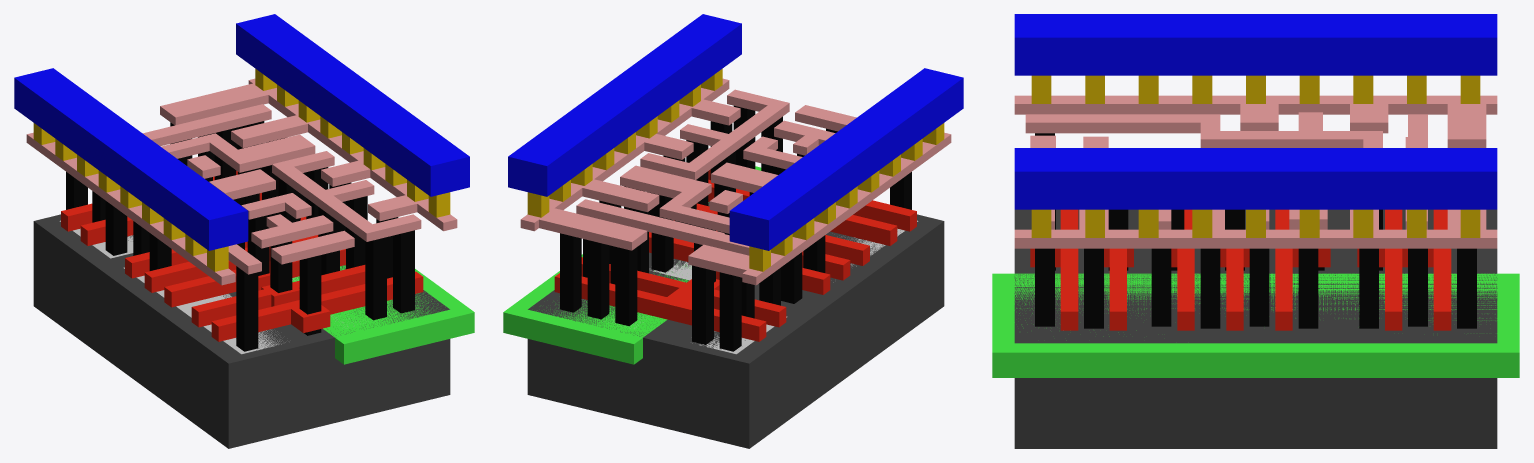
File: sky130_fd_sc_hd__a41o_2.obj
3 renders of one model, left to right at view 1: azimuth 30°, elevation 25°; view 2: azimuth 150°, elevation 25°; view 3: azimuth 270°, elevation 25°, orthographic. The views are drawn at different scales.
Parts seen in each view (by area): view 1: subs, metal1, li, licon, poly, nwell, mcon, diff; view 2: subs, metal1, li, licon, poly, nwell, mcon, diff; view 3: metal1, subs, li, nwell, licon, poly, mcon.
Part boxes in pixels (x1=…): subs: x1=33, y1=214, x2=450, y2=448; metal1: x1=14, y1=14, x2=469, y2=250; li: x1=26, y1=78, x2=457, y2=285; licon: x1=66, y1=121, x2=414, y2=351; poly: x1=61, y1=171, x2=423, y2=341; nwell: x1=292, y1=265, x2=474, y2=364; mcon: x1=33, y1=68, x2=450, y2=271; diff: x1=59, y1=220, x2=285, y2=354; subs: x1=527, y1=202, x2=944, y2=448; metal1: x1=508, y1=14, x2=963, y2=250; li: x1=520, y1=78, x2=951, y2=285; licon: x1=560, y1=105, x2=911, y2=351; poly: x1=554, y1=169, x2=916, y2=341; nwell: x1=503, y1=166, x2=761, y2=364; mcon: x1=527, y1=68, x2=944, y2=271; diff: x1=692, y1=220, x2=918, y2=354; metal1: x1=1014, y1=14, x2=1497, y2=209; subs: x1=1014, y1=209, x2=1497, y2=448; li: x1=1014, y1=95, x2=1497, y2=248; nwell: x1=992, y1=273, x2=1519, y2=377; licon: x1=1035, y1=133, x2=1476, y2=328; poly: x1=1030, y1=209, x2=1451, y2=330; mcon: x1=1031, y1=75, x2=1480, y2=237.
Bounding box in the file's own units: 3.2 × 2.74 × 4.52.
